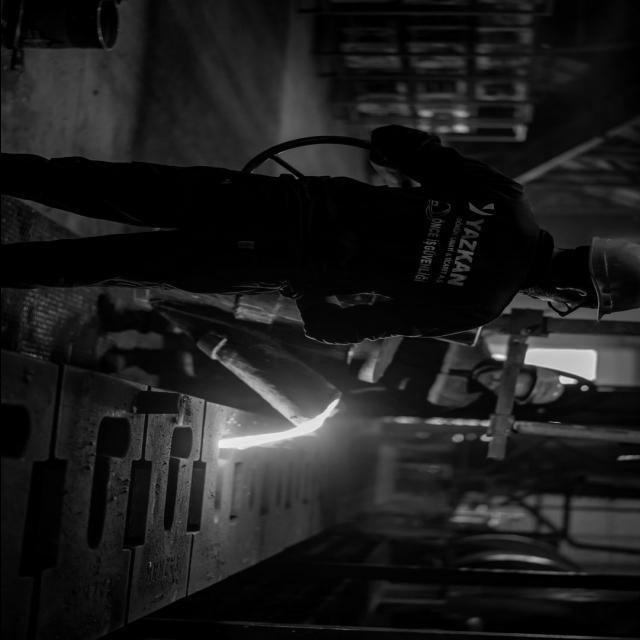construction helmet: (577, 234, 640, 320), (514, 365, 568, 406)
